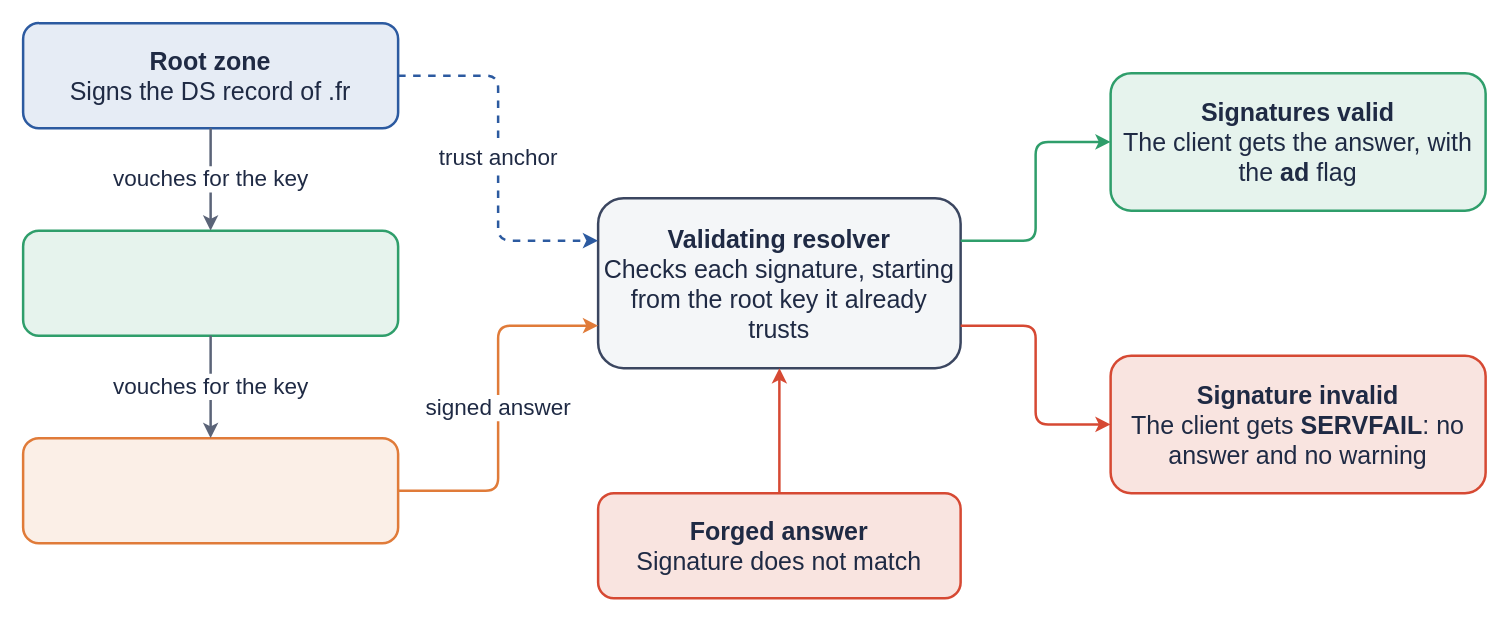
This 1508x620 diagram has some shape labels left out. Here are the shapes that lost their labels. From the top down, the centre of each, then its label:
At (x=210, y=282): ".fr zone Signs the DS record of example.fr".
At (x=210, y=490): "example.fr zone Signs its records (RRSIG)".
